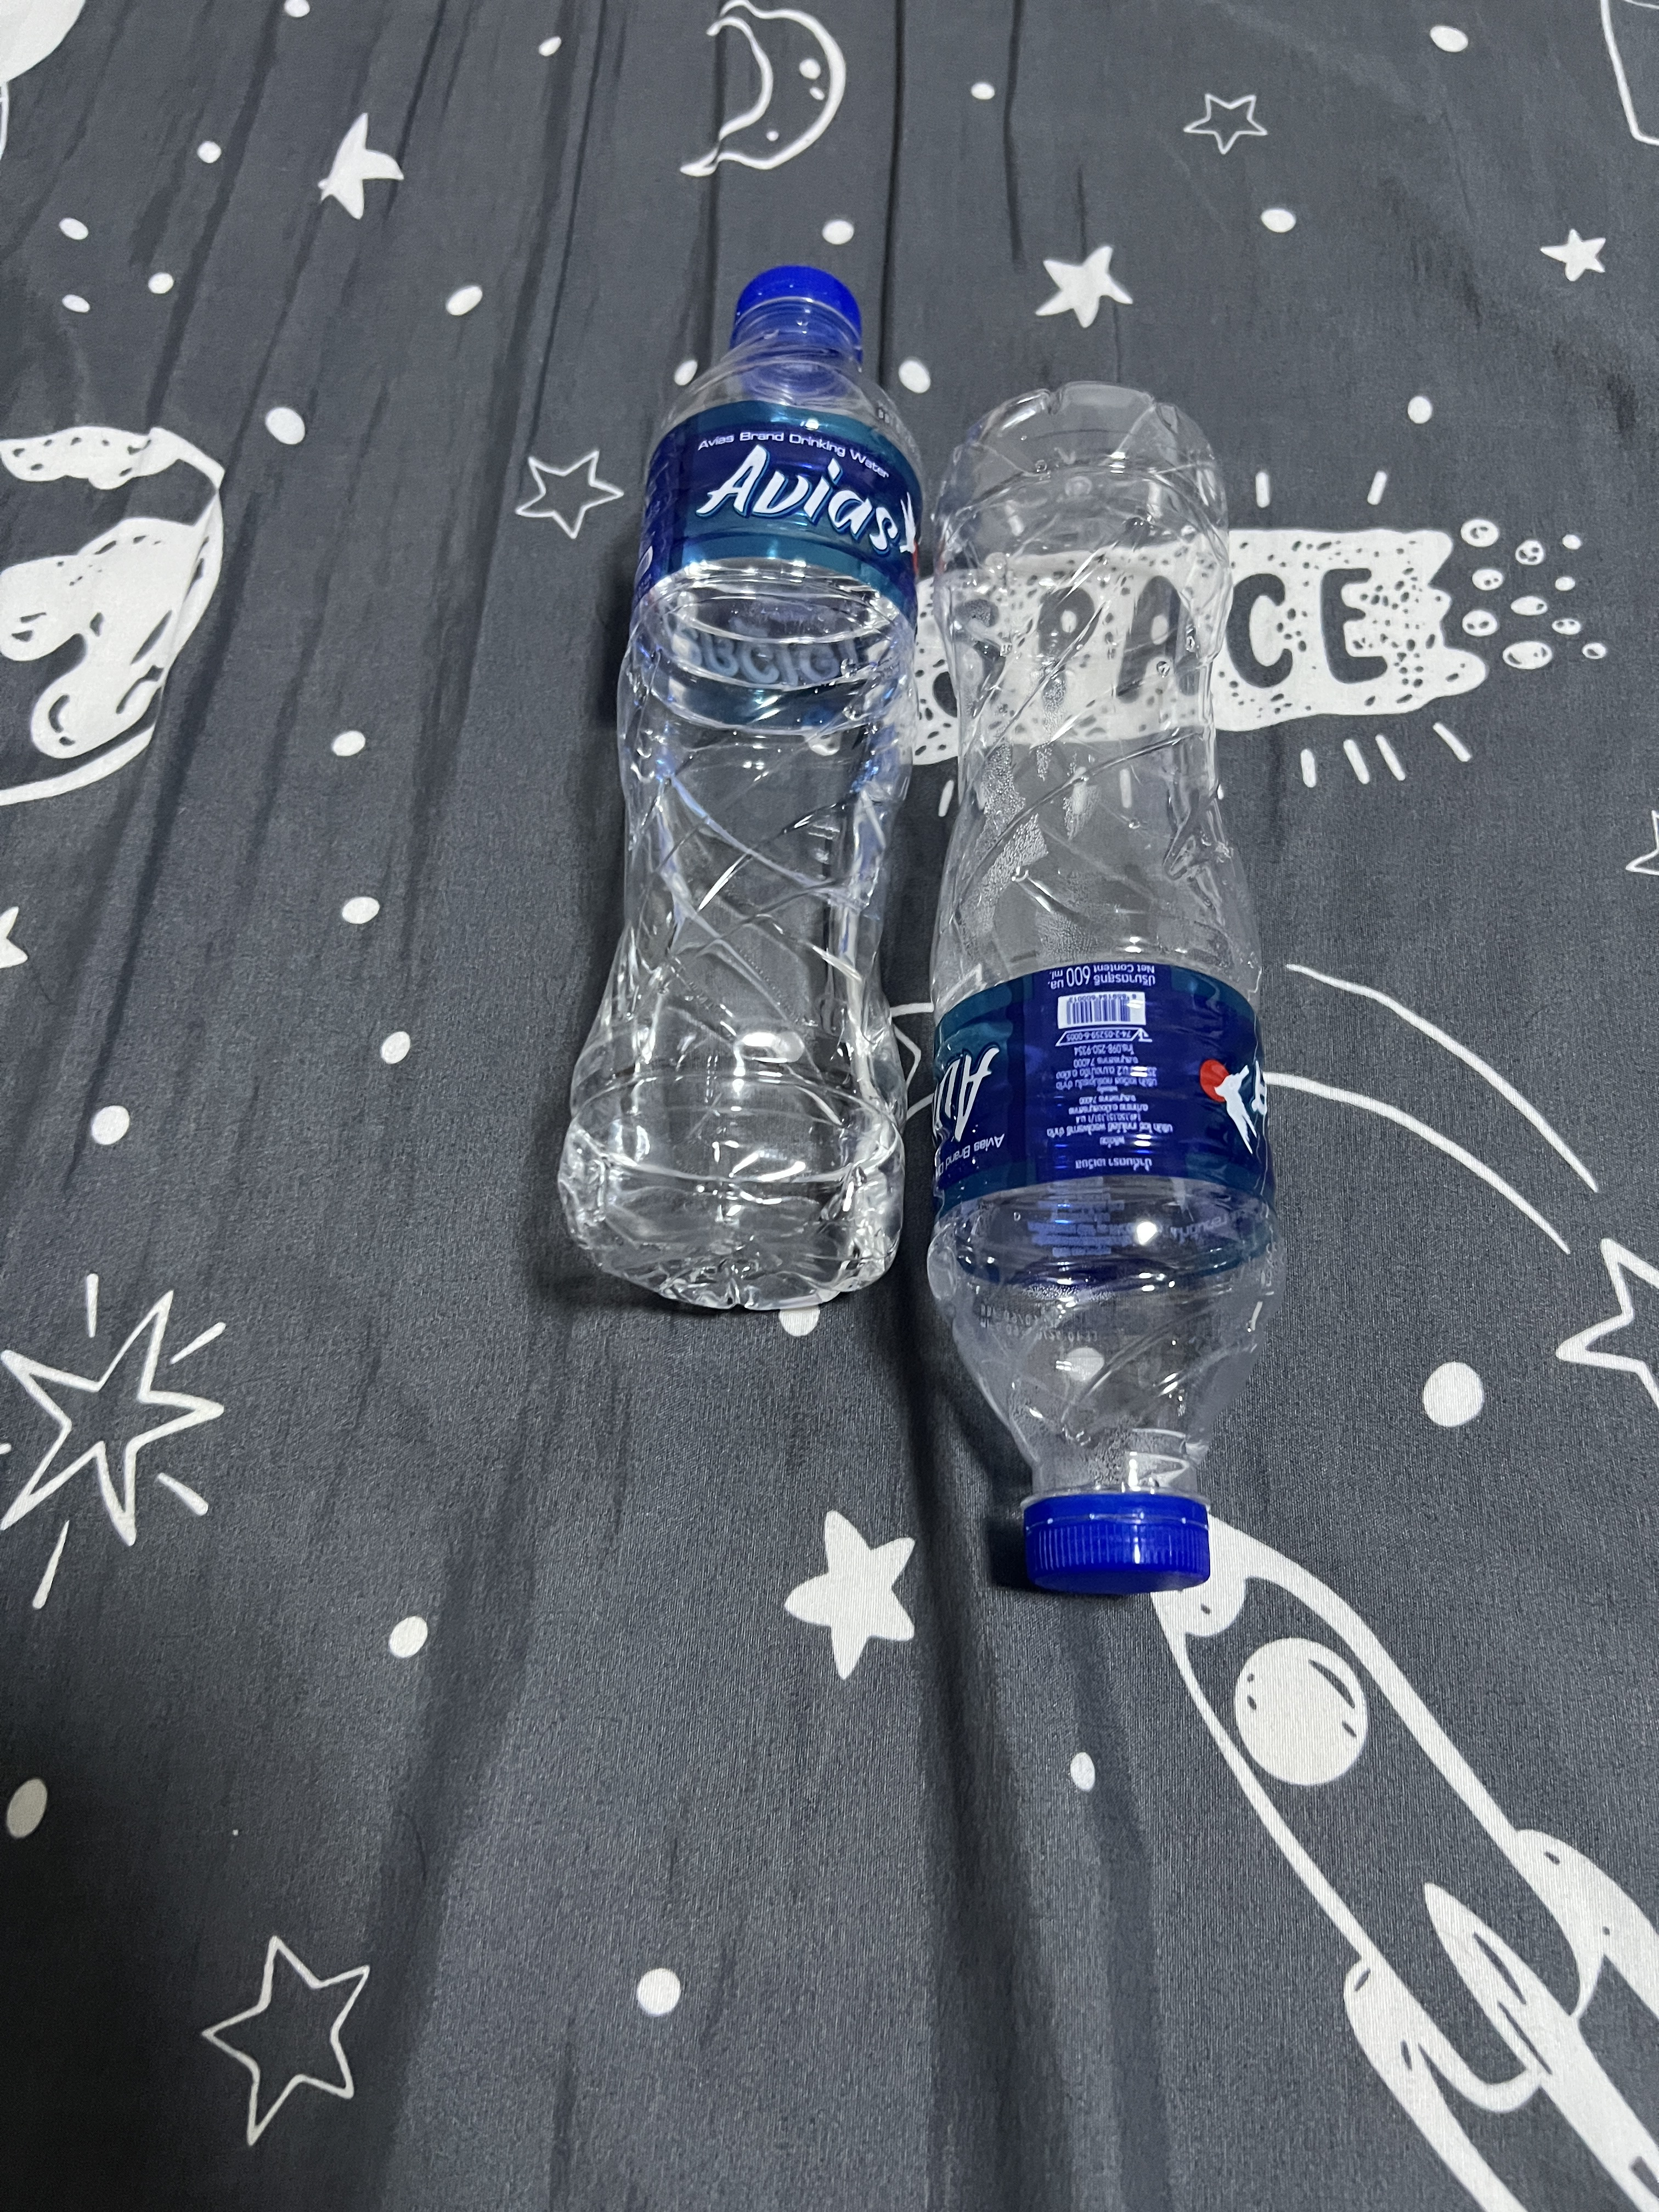plastic_bottle: (901, 338, 1293, 1653), (591, 244, 929, 1352)
